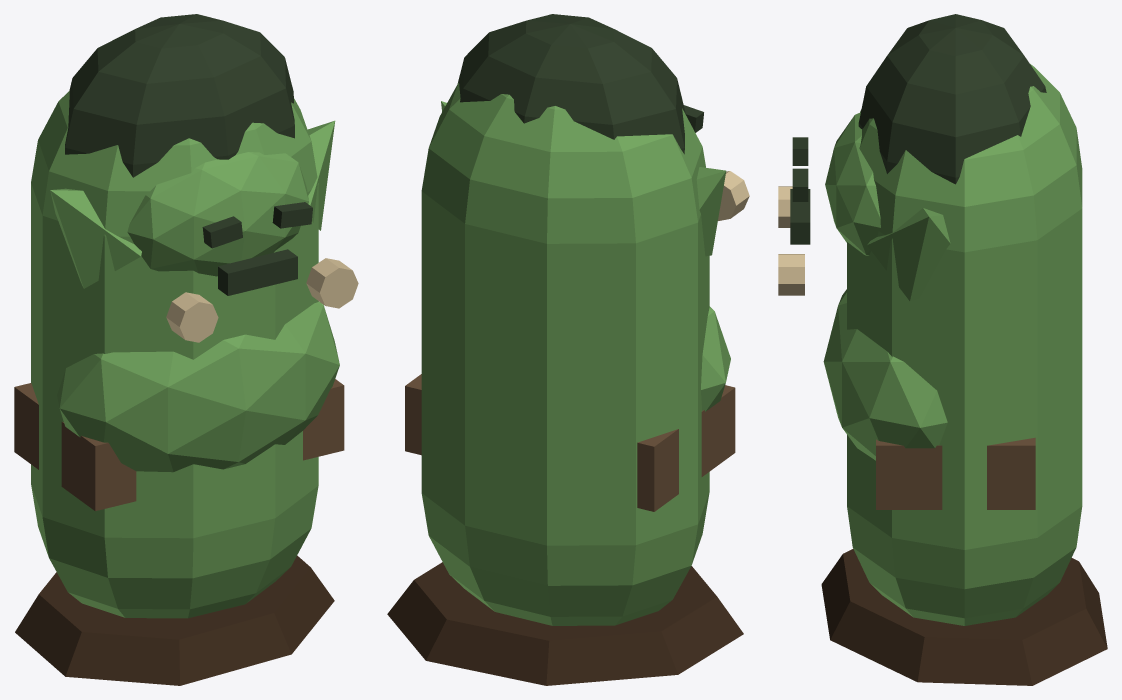
File: mace-goblin-sandbox-v2.glb
3 renders of one model, left to right at view 1: azimuth 30°, elevation 25°; view 2: azimuth 150°, elevation 25°; view 3: azimuth 270°, elevation 25°, orthographic.
Parts seen in each view (by area): view 1: Visible capsule character; view 2: Visible capsule character; view 3: Visible capsule character.
Part boxes in pixels (x1,y1,x2,y2): Visible capsule character: (14,14,358,685); Visible capsule character: (387,14,749,685); Visible capsule character: (778,14,1107,685).
Size of the model in its own units: 0.7391 by 1.48 by 0.7425.
